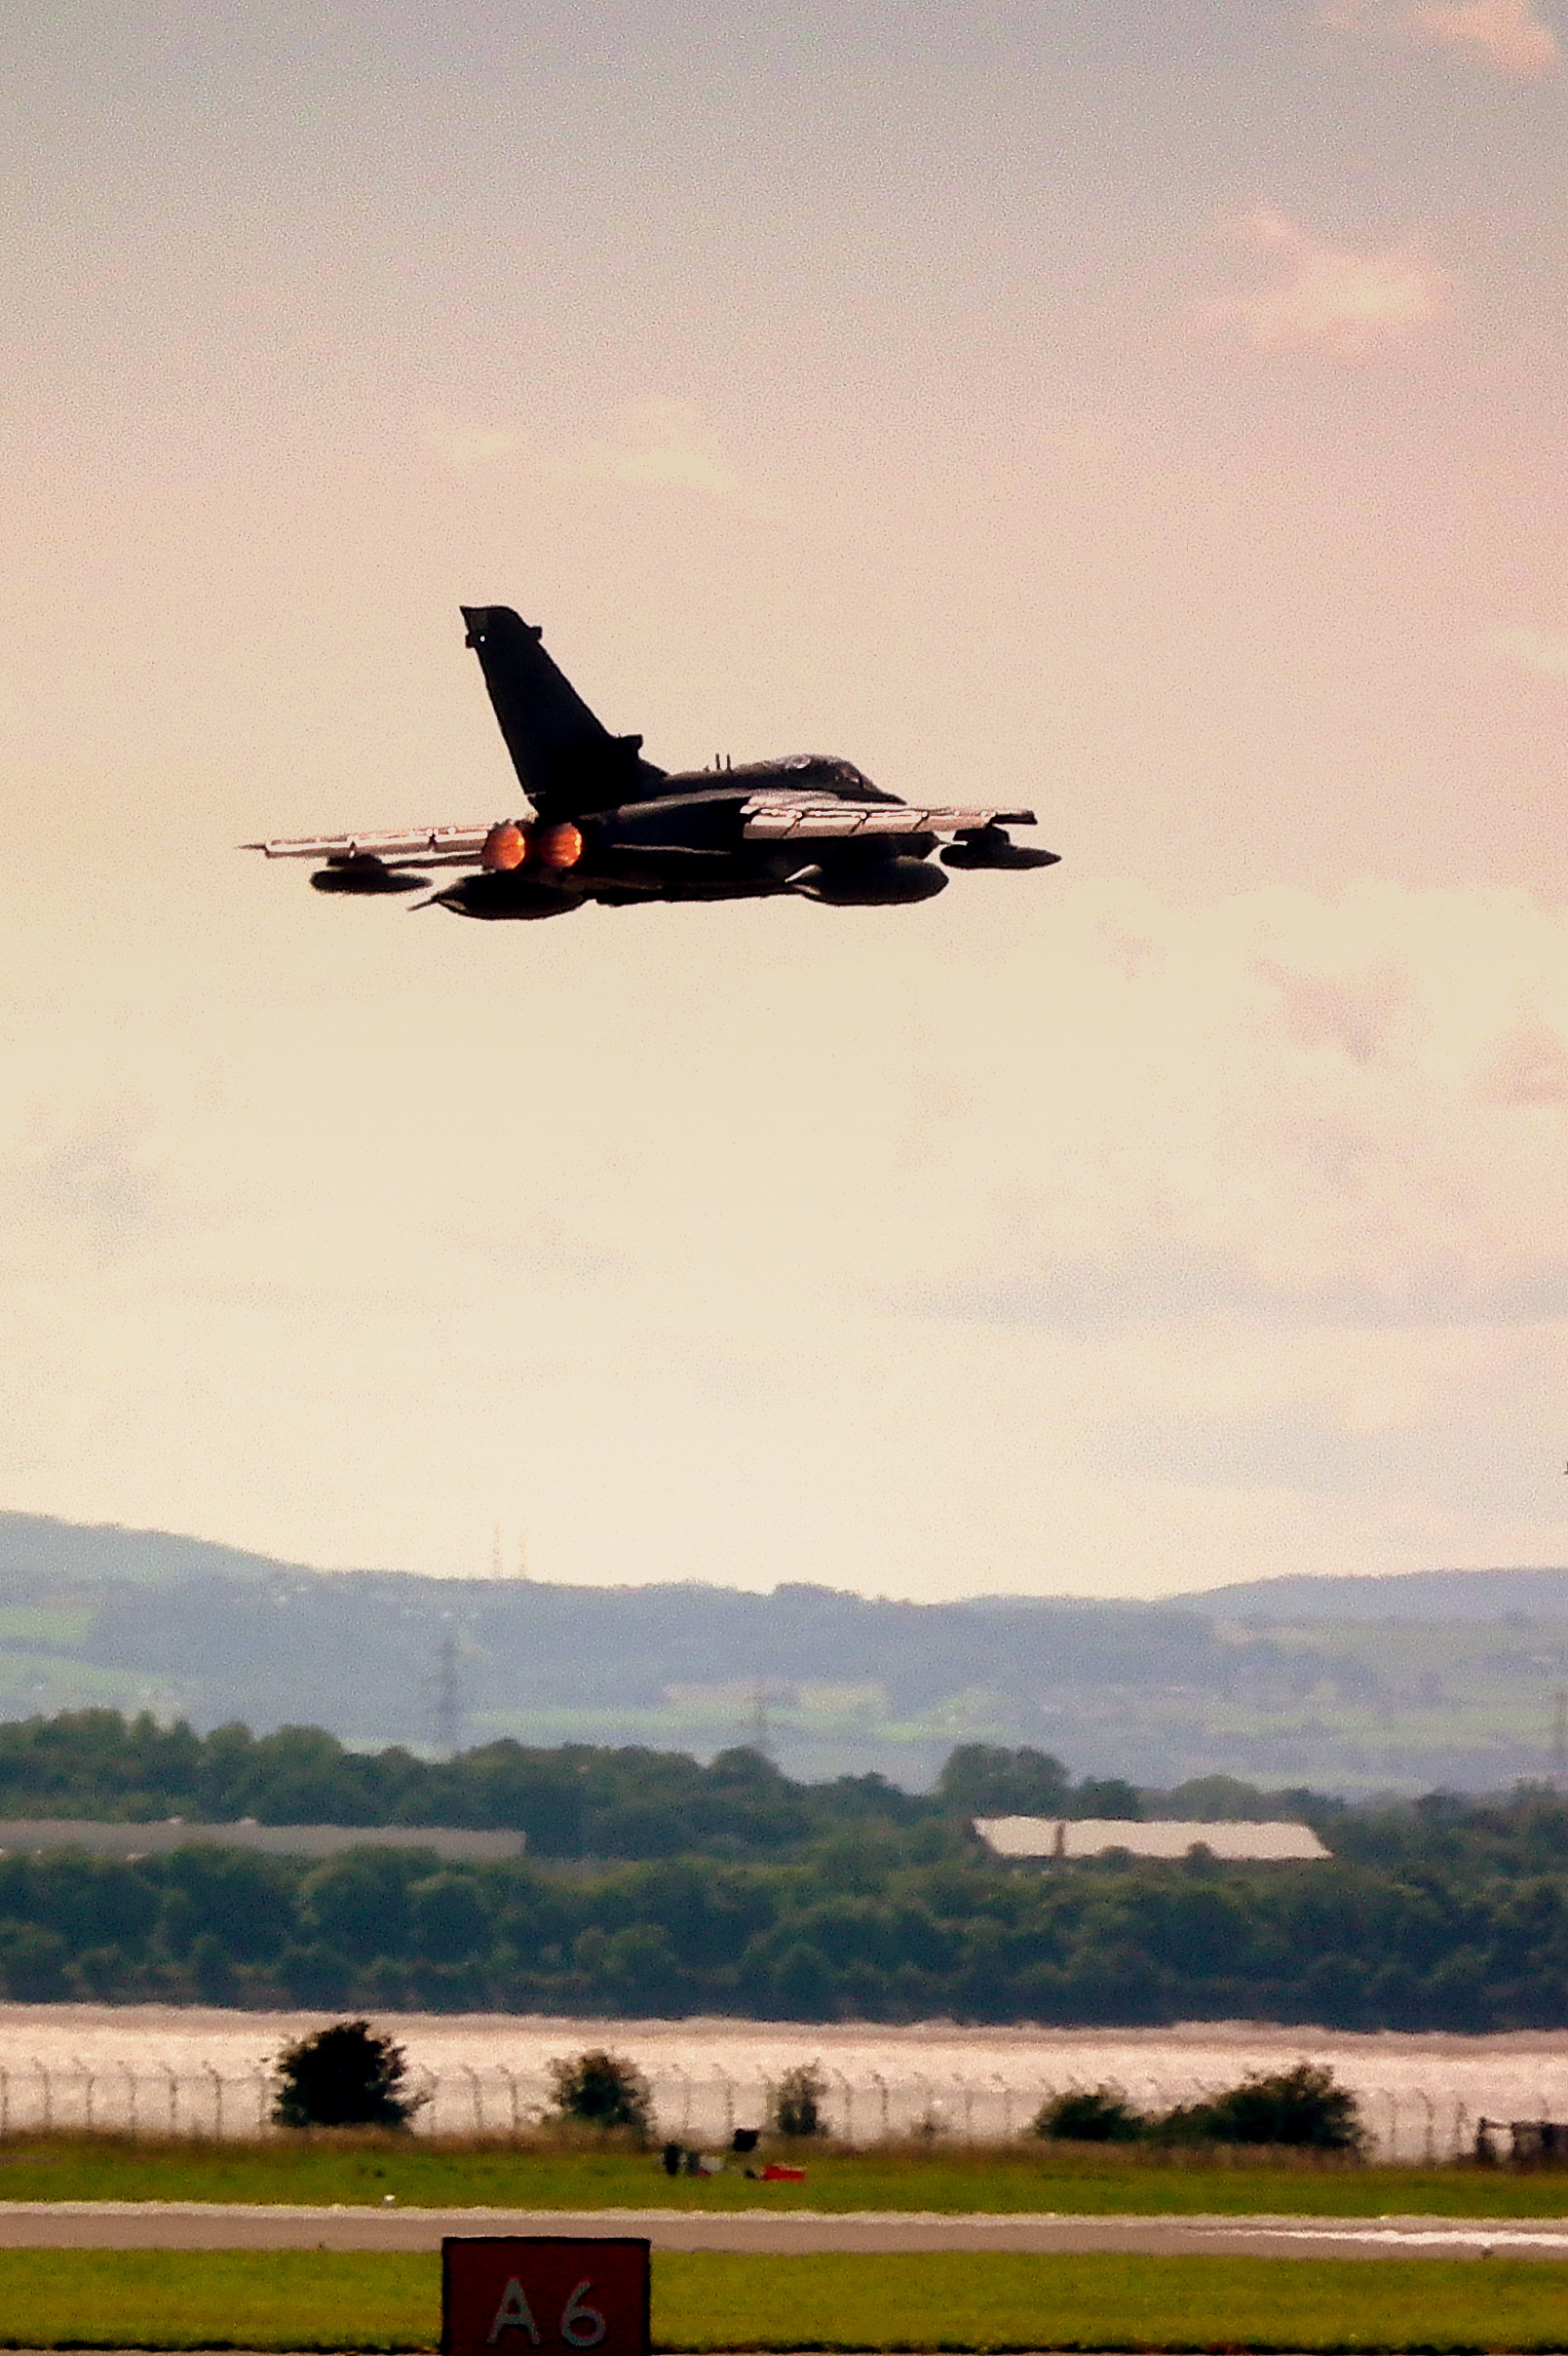Tornado: (231, 604, 1062, 921)
